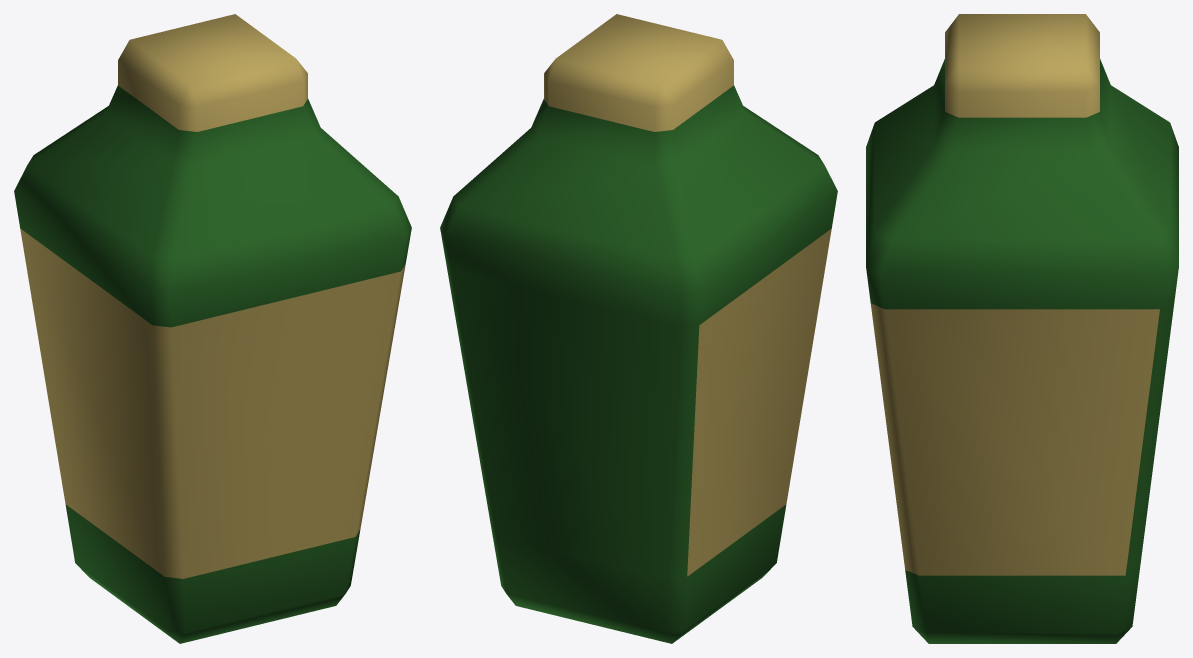
The model's file is bottle.fbx.
3 renders of one model, left to right at view 1: azimuth 30°, elevation 25°; view 2: azimuth 150°, elevation 25°; view 3: azimuth 270°, elevation 25°, orthographic. The views are drawn at different scales.
Parts seen in each view (by area): view 1: Bottle; view 2: Bottle; view 3: Bottle.
Boxes of the visible parts, bbox=[...] form: Bottle: bbox=[14, 14, 411, 643]; Bottle: bbox=[440, 14, 837, 643]; Bottle: bbox=[866, 14, 1178, 643].
Bounding box in the file's own units: 7.83 × 7.83 × 15.57.
